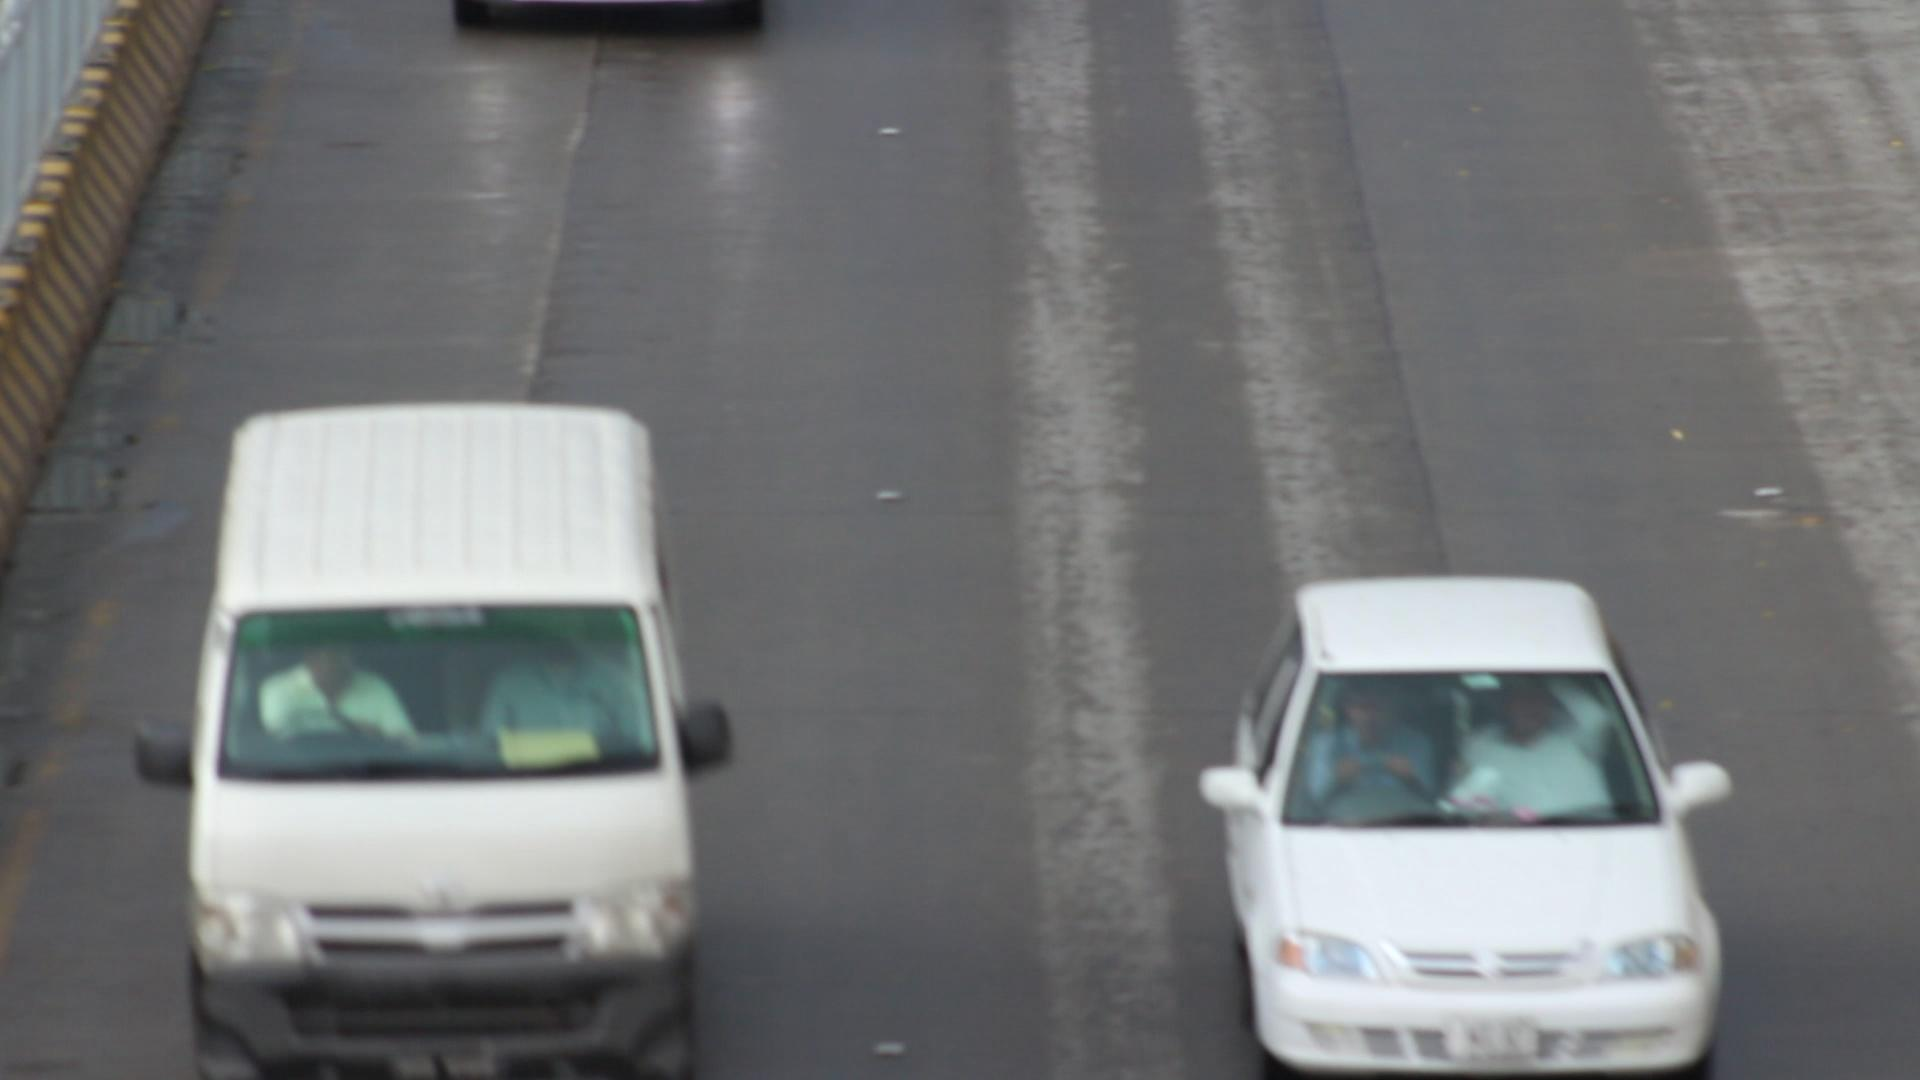windshield: (191, 583, 678, 796), (1267, 653, 1673, 833)
